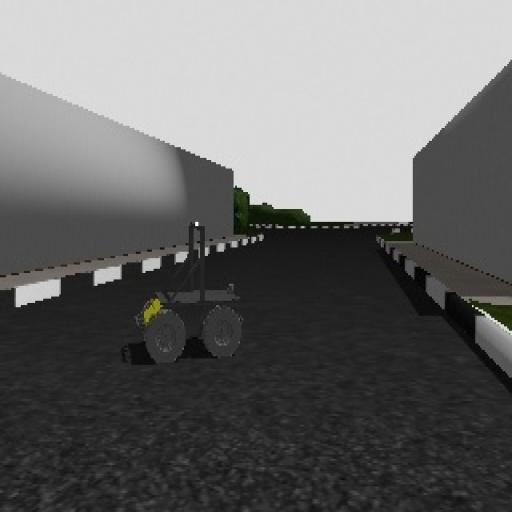huskya200: (122, 213, 253, 384)
